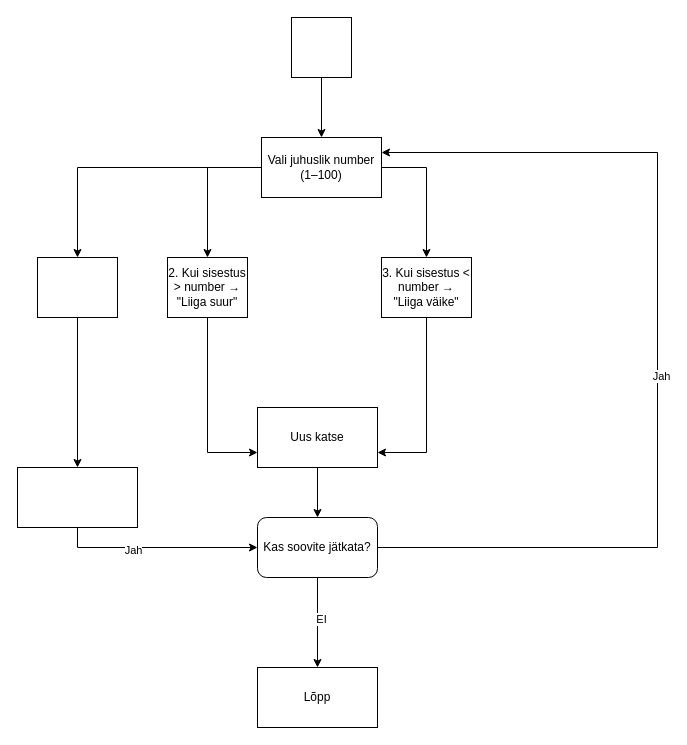
The diagram is 687 pixels wide and 745 high, and some of its shapes have lost their labels. The shapes that lost their labels are listed below. From the top down, each one's centre as x and y in pixels, then its label:
point (321, 47): Start
point (77, 287): 1. Kui sisestus = juhuslik number
point (77, 497): "Võitsid!"
